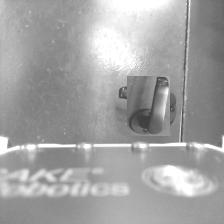Door Handle: (122, 80, 174, 132)
